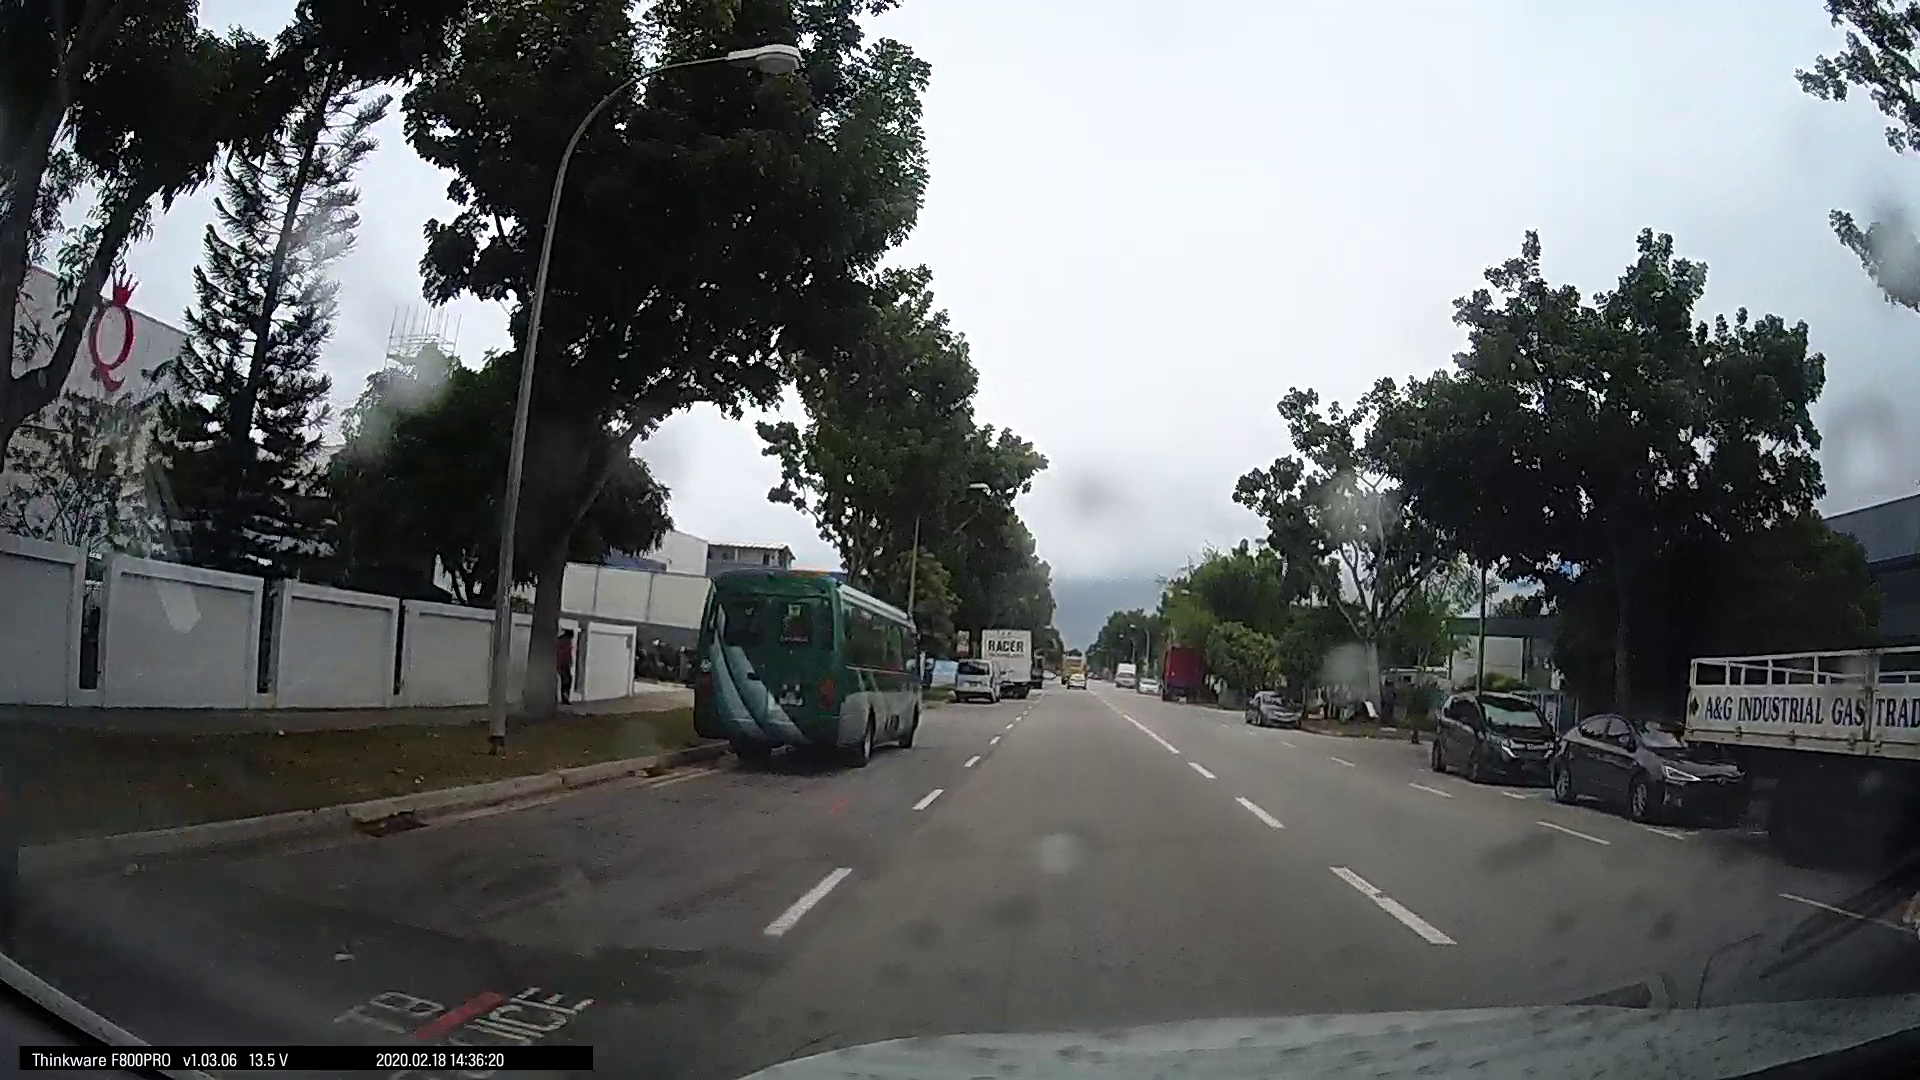Heavy Vehicle: (683, 567, 922, 767), (971, 625, 1033, 699)
Light Vehicle: (1544, 700, 1742, 822), (1425, 686, 1556, 785), (1244, 684, 1299, 728)
